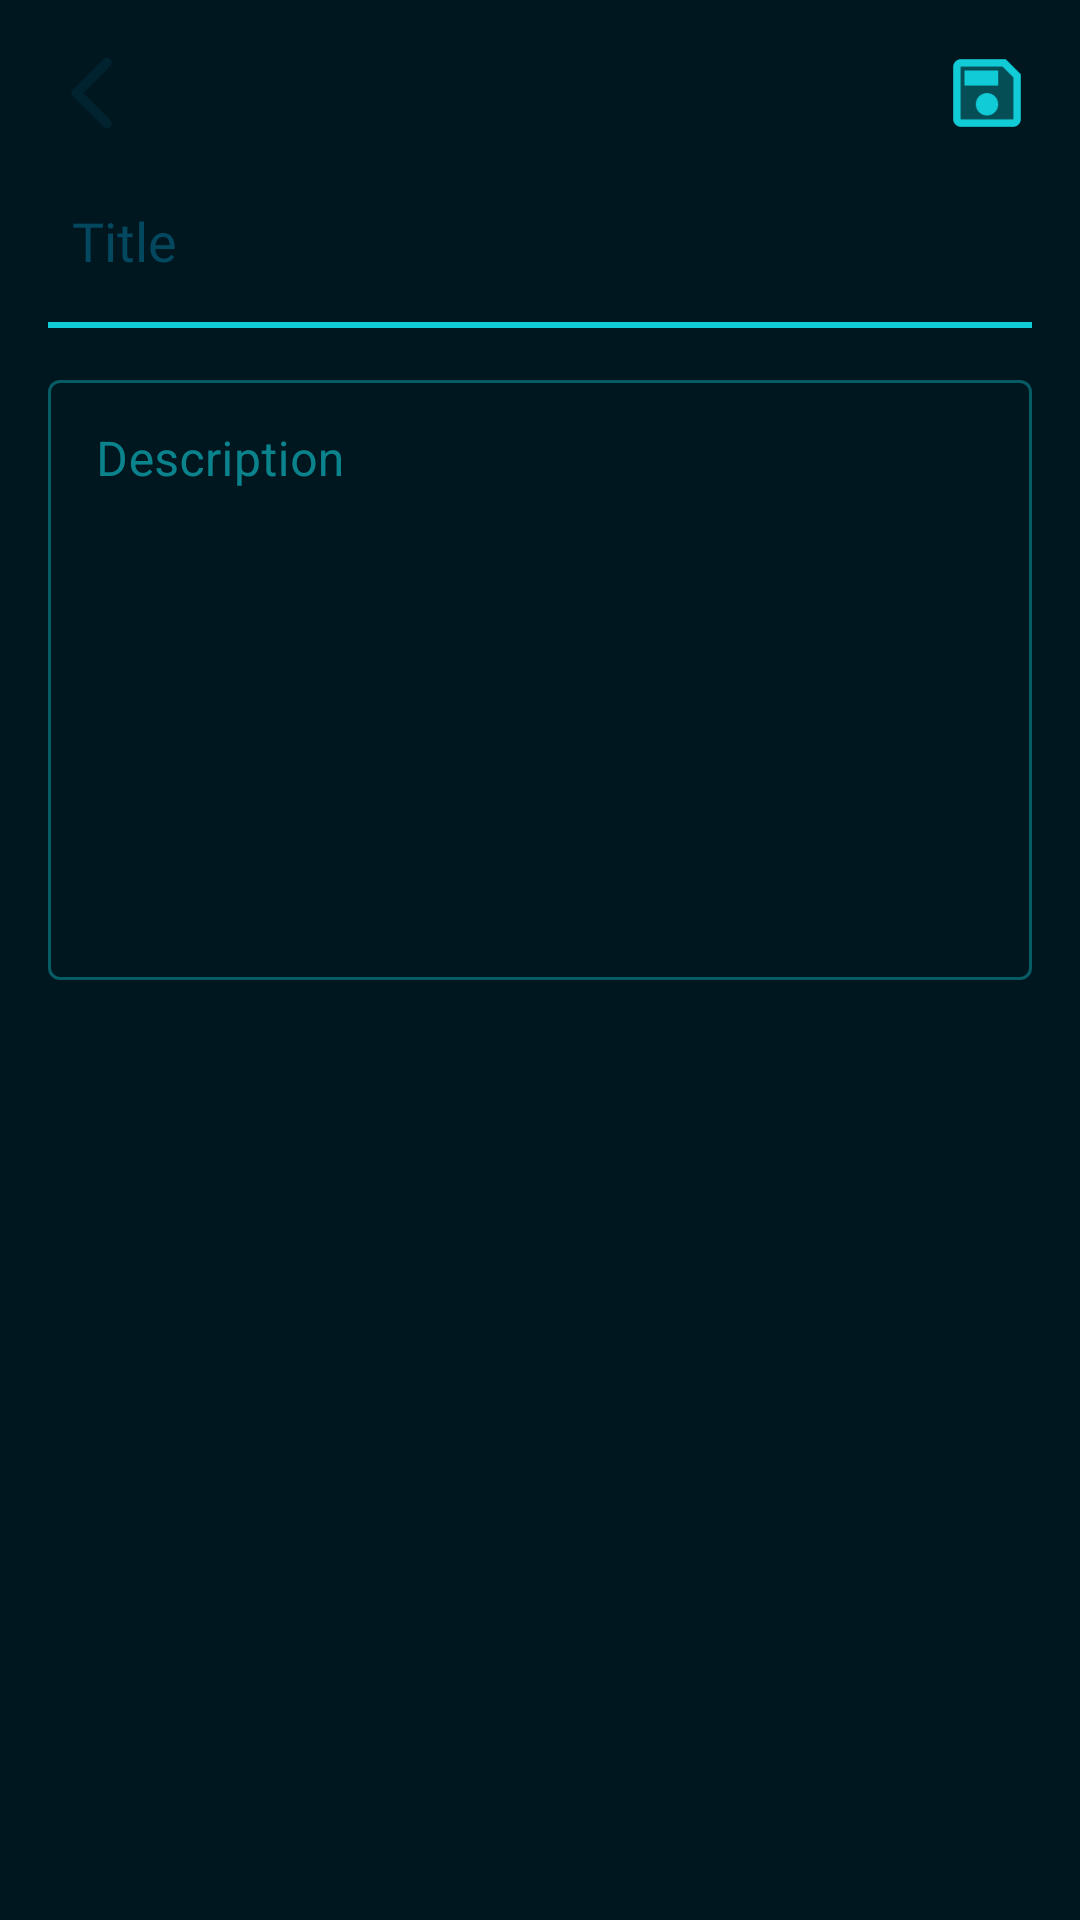

Named icons in this screenshot (1080w x 1920h) and their centers, [x,y]:
save: [987,93]
